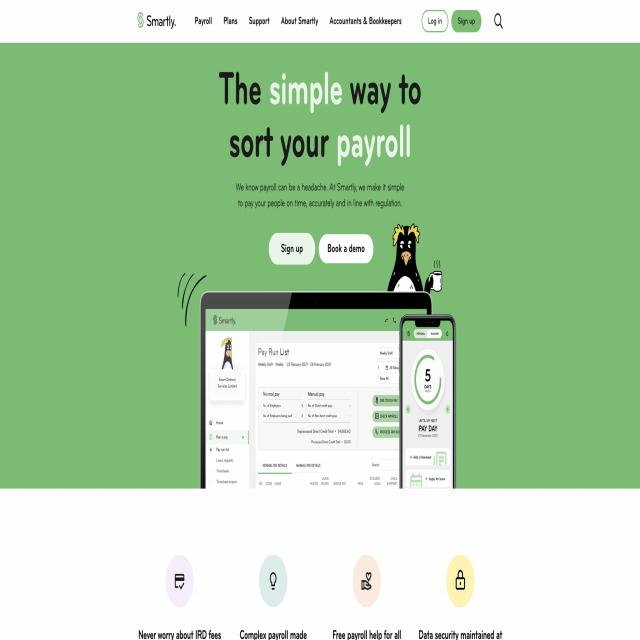Logo: (132, 8, 185, 36)
Navigation: (188, 6, 522, 38)
